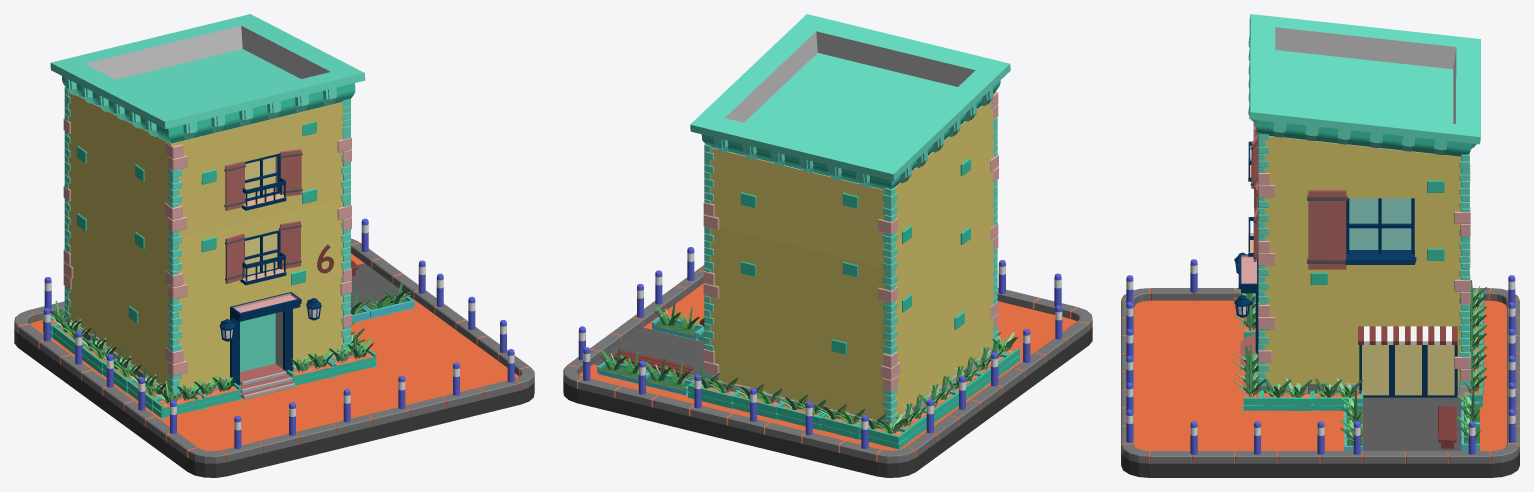
The model's file is lv2_house_1.fbx.
3 renders of one model, left to right at view 1: azimuth 30°, elevation 25°; view 2: azimuth 150°, elevation 25°; view 3: azimuth 270°, elevation 25°, orthographic.
Visible parts, largest first — view 1: lv2_house_1, basehouse_lv2_1, fence_lv2_L; view 2: lv2_house_1, basehouse_lv2_1, fence_lv2_R, fence_lv2_L, bench_lv2_1; view 3: lv2_house_1, basehouse_lv2_1, fence_lv2_R, fence_lv2_L, bench_lv2_1.
Part boxes in pixels (left/top/right/bottom): lv2_house_1: left=43, top=14, right=377, bottom=419; basehouse_lv2_1: left=14, top=218, right=534, bottom=477; fence_lv2_L: left=351, top=282, right=415, bottom=322; lv2_house_1: left=687, top=14, right=1020, bottom=449; basehouse_lv2_1: left=563, top=247, right=1092, bottom=477; fence_lv2_R: left=597, top=347, right=693, bottom=395; fence_lv2_L: left=652, top=303, right=704, bottom=341; bench_lv2_1: left=613, top=350, right=693, bottom=377; lv2_house_1: left=1233, top=14, right=1487, bottom=411; basehouse_lv2_1: left=1121, top=259, right=1519, bottom=477; fence_lv2_R: left=1457, top=388, right=1480, bottom=450; fence_lv2_L: left=1340, top=390, right=1363, bottom=451; bench_lv2_1: left=1438, top=406, right=1456, bottom=448.
Size of the model in its own units: 3052 by 2608 by 3052.
